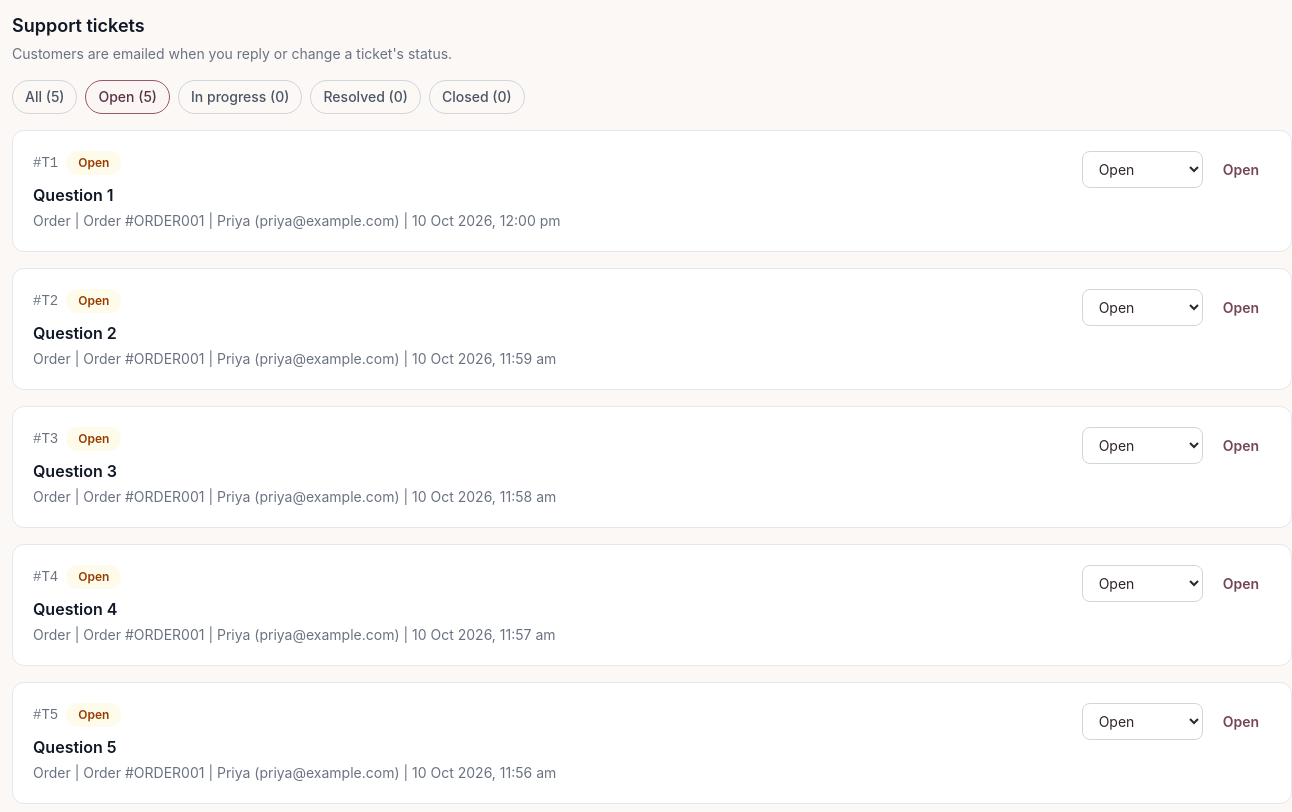
Scenario: a failed status change stays on screen when another change's reload finishes
Select "Resolved" in the 1st dropdown named "Ticket status" at (1142, 170), box left=1082, top=151, right=1203, bottom=188
Select "Resolved" in the 2nd dropdown named "Ticket status" at (1142, 308), box left=1082, top=289, right=1203, bottom=326
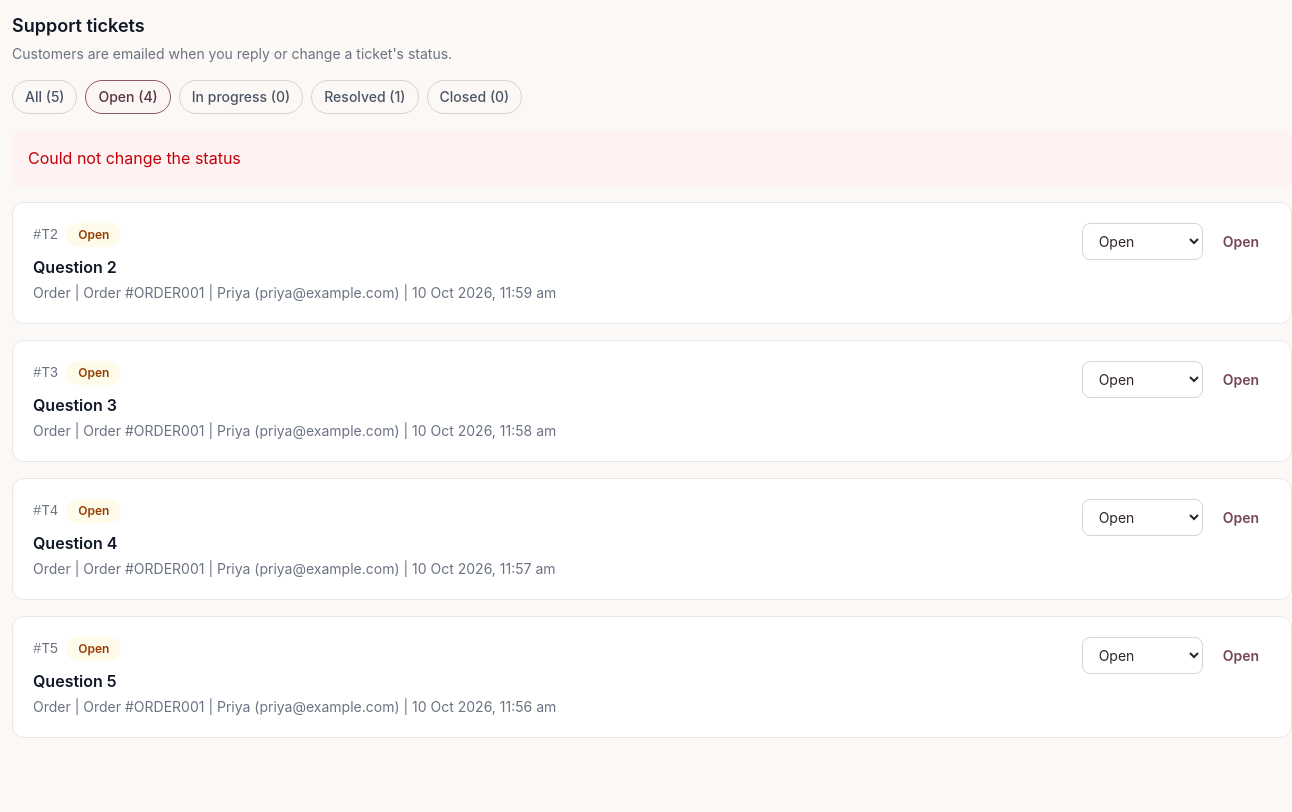
Result: the message reads "Could not change the status" at left=28, top=148, right=241, bottom=168
